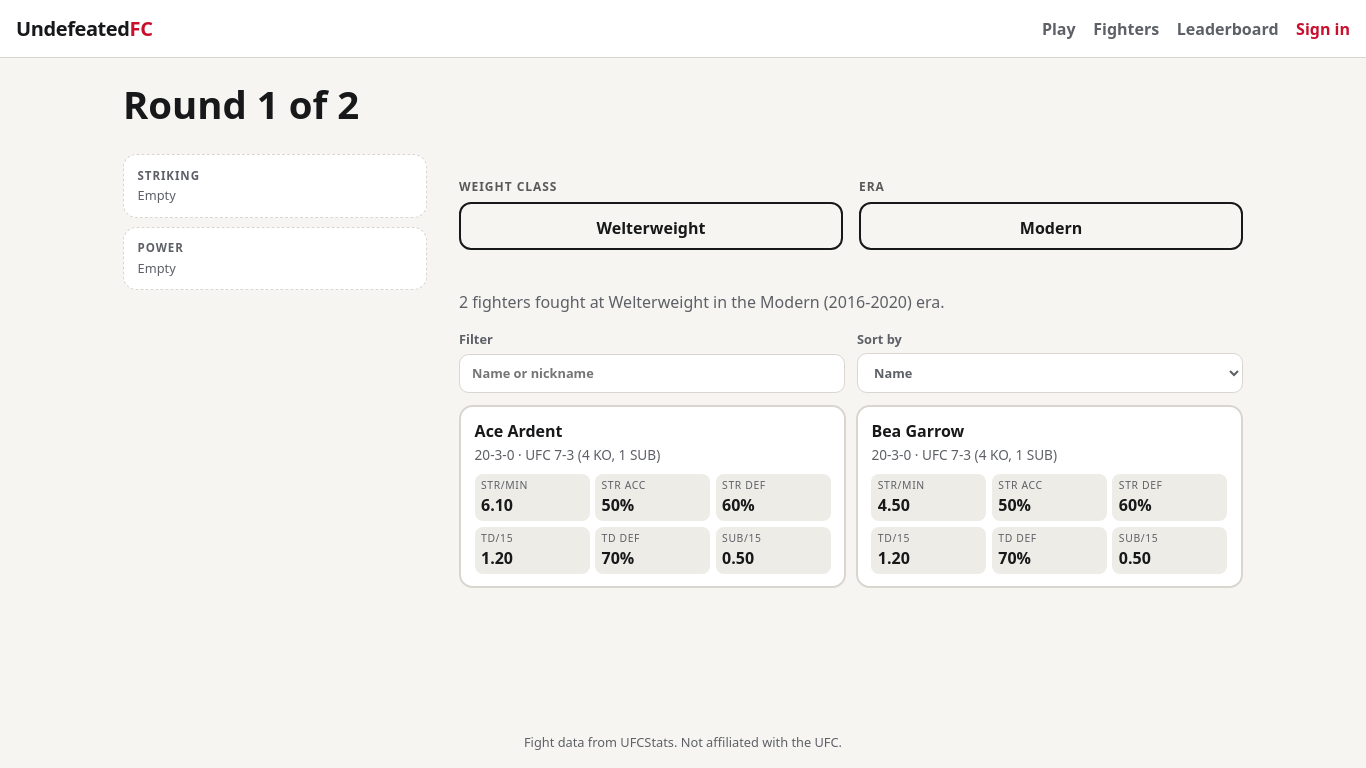
it: picking a fighter into a slot reveals their rating and readies the next spin
The image size is (1366, 768).
What coordinates should you click on to do the following:
click the button "Ace Ardent"
I would click on:
 (653, 496)
Its box is left=459, top=405, right=846, bottom=588.
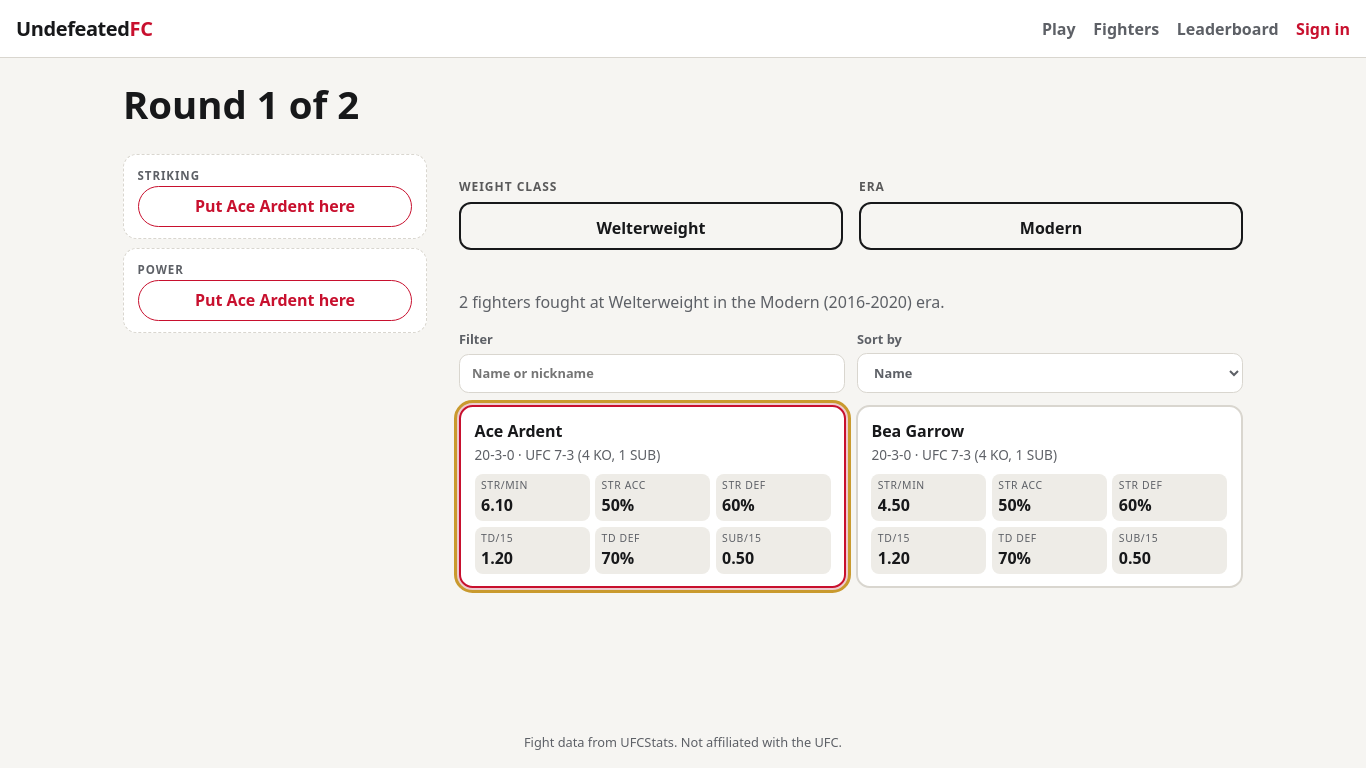
What coordinates should you click on to do the following:
click the button "Put Ace Ardent here" below "Power"
I would click on:
 (275, 300)
Its box is left=138, top=280, right=412, bottom=321.
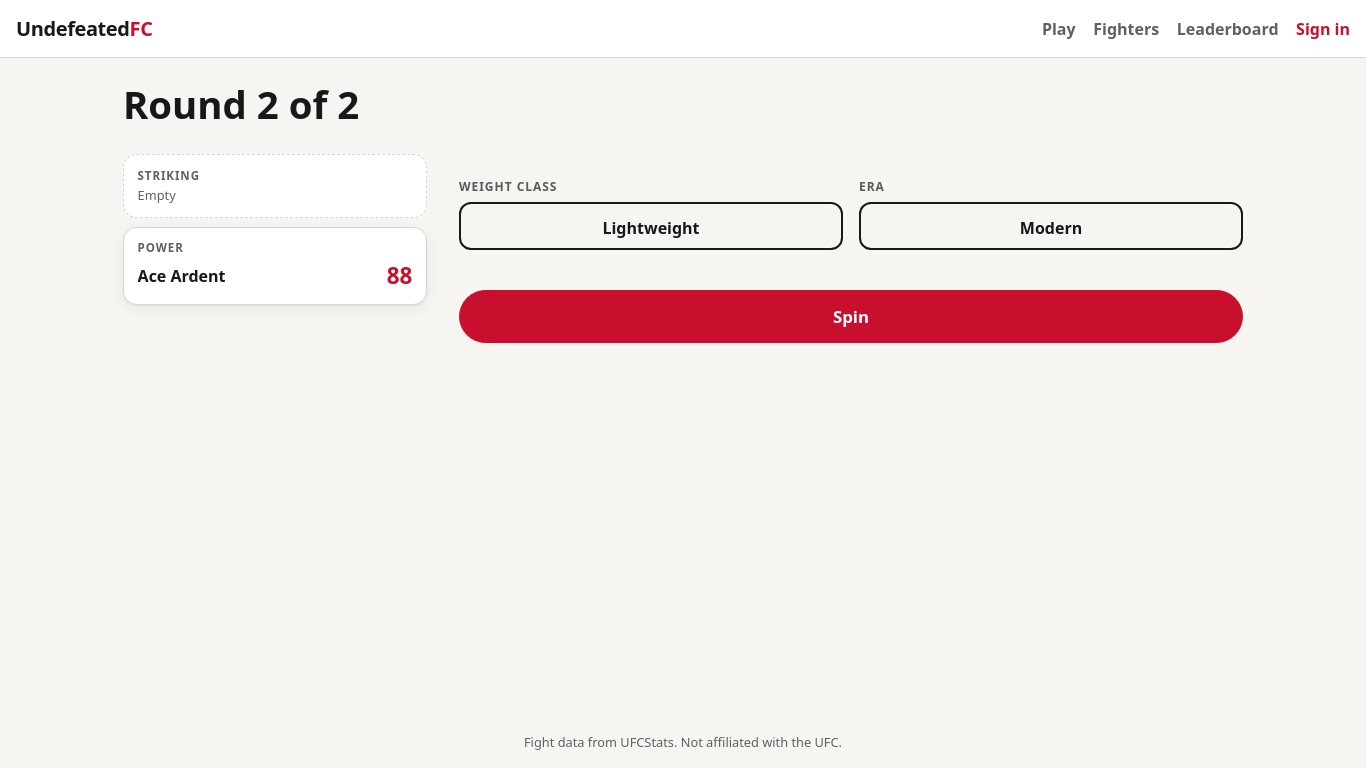
expect the text named "Power rating" reads "88": met, box left=387, top=260, right=412, bottom=291
expect the button "Spin" is enabled: met, box left=459, top=290, right=1243, bottom=343
